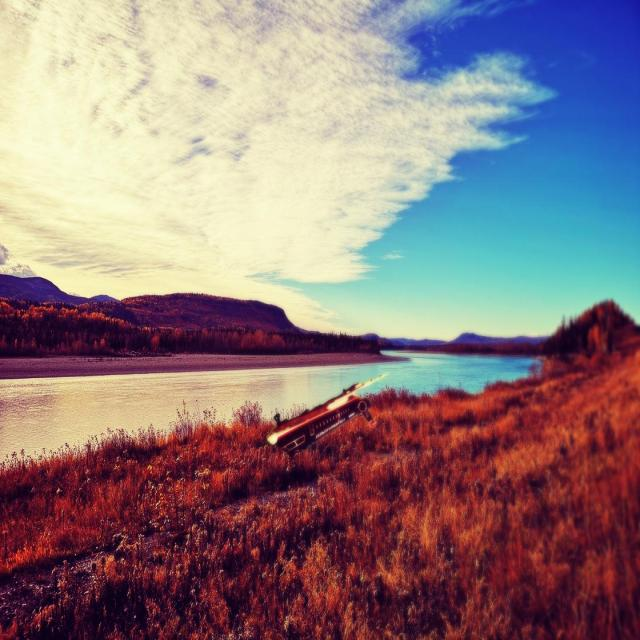airplane: (266, 372, 388, 456)
